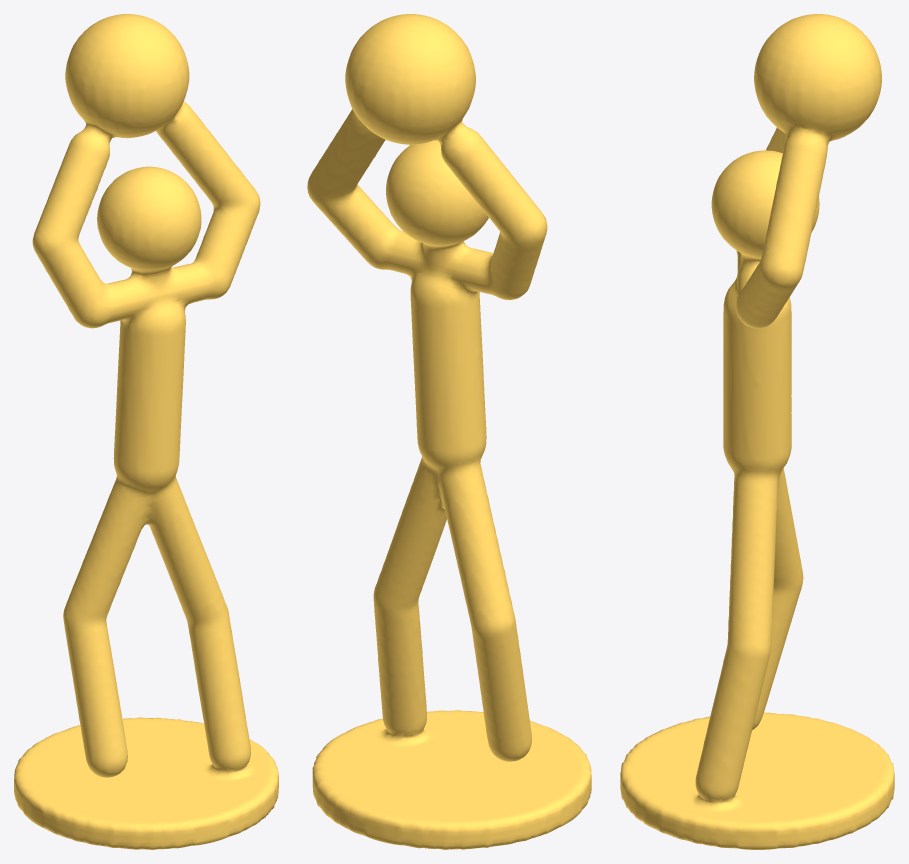
The model's file is basketball.glb.
The picture shows the model from 3 angles, left to right: view 1: azimuth 30°, elevation 25°; view 2: azimuth 150°, elevation 25°; view 3: azimuth 270°, elevation 25°; orthographic projection. The views are drawn at different scales.
Parts seen in each view (by area): view 1: basketball; view 2: basketball; view 3: basketball.
Boxes of the visible parts, x1,y1,x2,y2 form: basketball: (14,14,278,849); basketball: (307,14,591,849); basketball: (620,14,894,849).
Bounding box in the file's own units: 0.7031 × 2.13 × 0.679.
